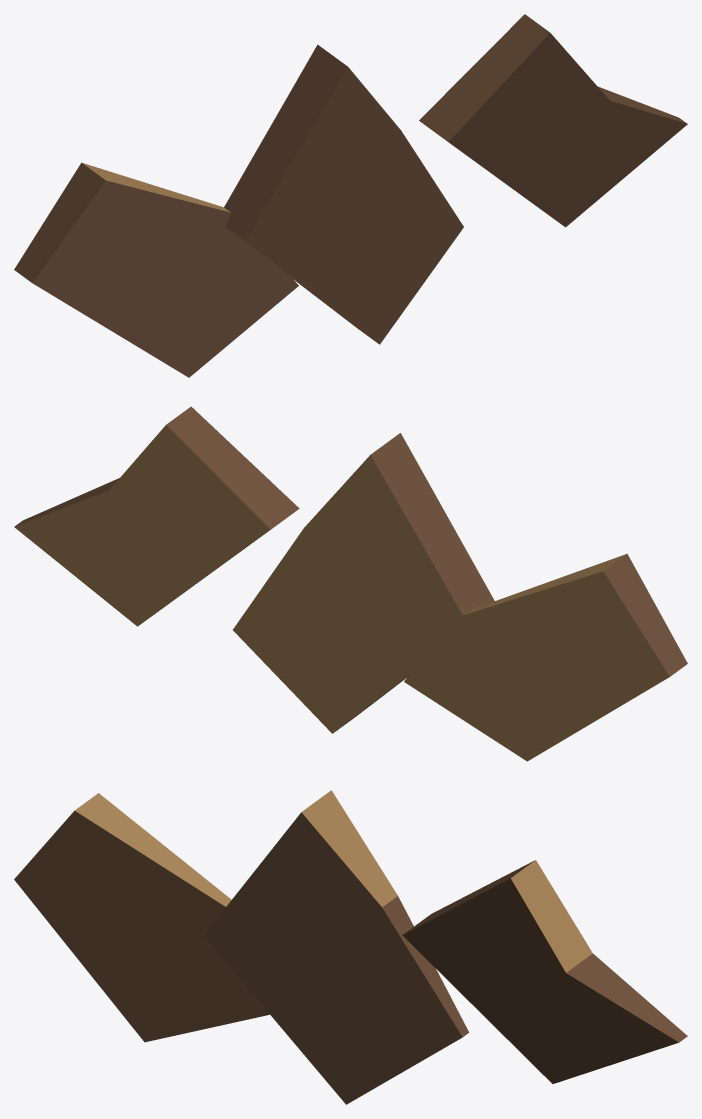
The model's file is rootfall-seam.glb.
3 views of the same model, one above another, from view 1: azimuth 30°, elevation 25°; view 2: azimuth 150°, elevation 25°; view 3: azimuth 330°, elevation 25° (orthographic).
Visible parts, largest first — view 1: RootfallBark_chunk_1, RootfallBark_chunk_0, RootfallBark_chunk_2; view 2: RootfallBark_chunk_1, RootfallBark_chunk_0, RootfallBark_chunk_2; view 3: RootfallBark_chunk_1, RootfallBark_chunk_0, RootfallBark_chunk_2.
Boxes of the visible parts, <box> form: RootfallBark_chunk_1: <box>224,44,463,344</box>; RootfallBark_chunk_0: <box>14,162,298,377</box>; RootfallBark_chunk_2: <box>419,14,687,227</box>; RootfallBark_chunk_1: <box>233,433,494,733</box>; RootfallBark_chunk_0: <box>404,553,687,761</box>; RootfallBark_chunk_2: <box>14,406,299,626</box>; RootfallBark_chunk_1: <box>203,790,468,1104</box>; RootfallBark_chunk_0: <box>14,793,269,1042</box>; RootfallBark_chunk_2: <box>402,860,687,1083</box>.
Size of the model in its own units: 0.69 by 0.29 by 0.055.
Materials: 1 (1 with a texture image).
